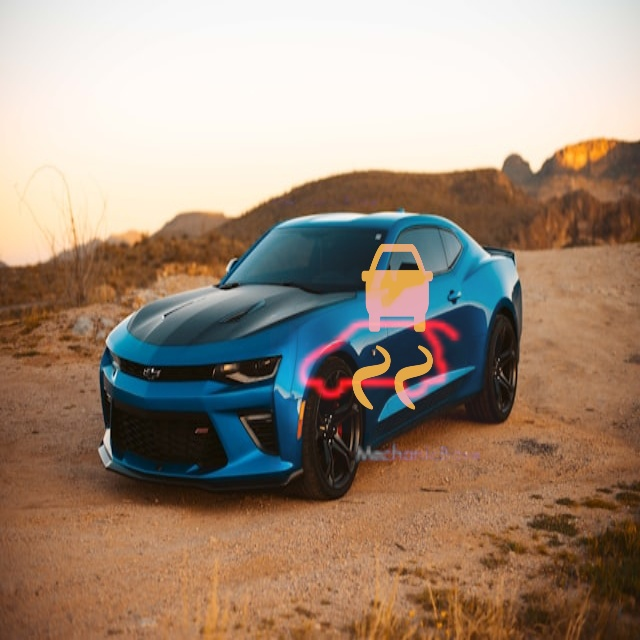symbol: (270, 253, 489, 472), (289, 221, 501, 433), (195, 26, 386, 217)
